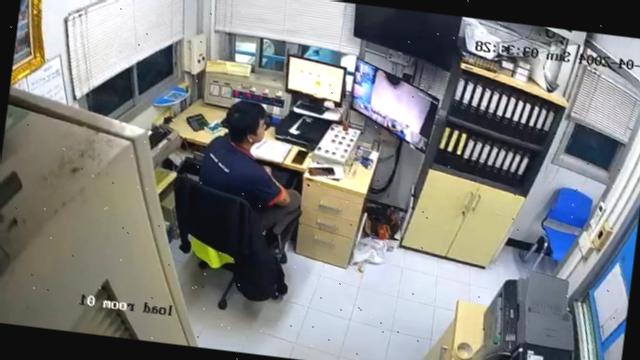Head: (221, 98, 268, 146)
People: (199, 100, 300, 231)
Phone: (289, 147, 310, 165), (306, 165, 335, 176)
